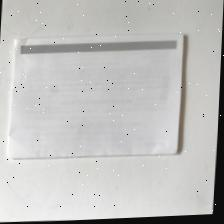paper: (1, 15, 206, 185)
